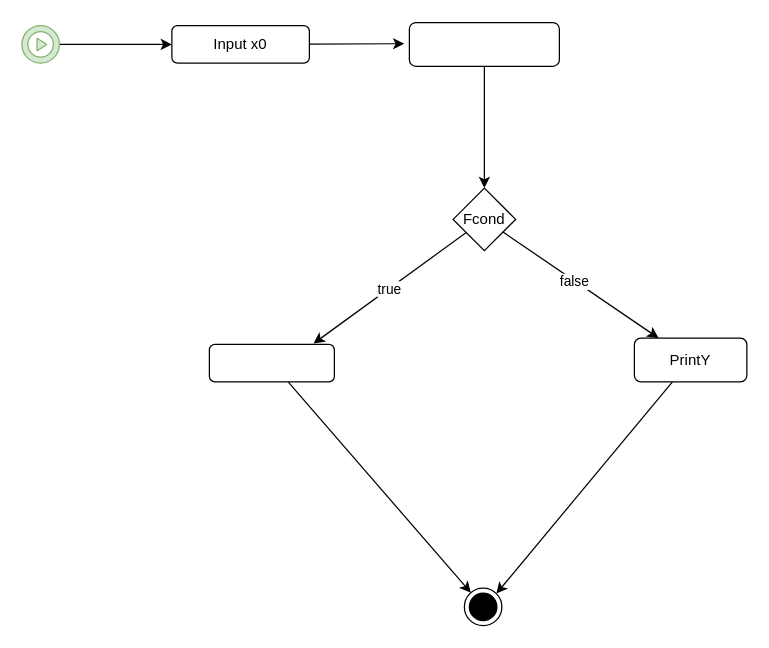
Image size: 769x648. Some labels were removed from this diagram. The shapes that lost their labels are listed below. From the top down, each one's box as (x1, y1, x2, y2) in pixels, then its label:
(408, 21, 559, 66): Set Fx
(208, 343, 334, 382): PrintX
